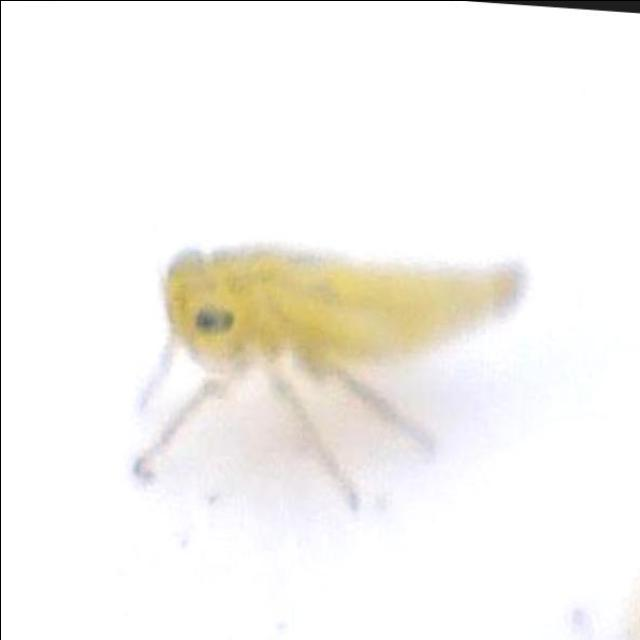green leaf hopper: (136, 246, 522, 475)
